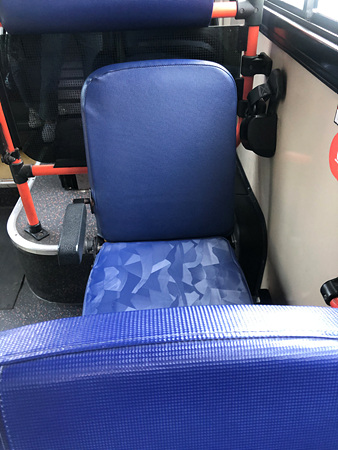seat: (78, 60, 242, 309)
